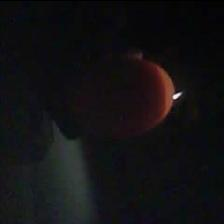fertile: (78, 56, 174, 139)
